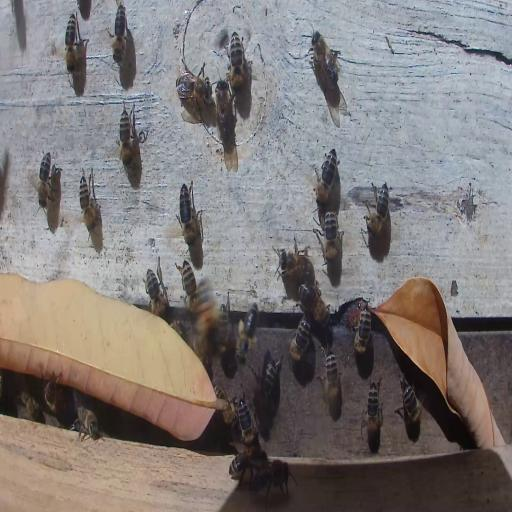bee: (176, 178, 204, 246), (296, 281, 332, 332), (310, 28, 341, 87), (256, 458, 297, 498), (316, 209, 343, 269), (313, 147, 339, 206), (364, 180, 390, 236), (398, 376, 424, 432), (78, 166, 100, 232), (234, 305, 258, 363), (256, 355, 282, 408), (145, 258, 168, 316), (276, 244, 313, 280), (214, 78, 233, 146), (322, 349, 340, 418), (118, 105, 137, 167), (177, 72, 211, 106), (364, 376, 382, 440), (230, 449, 262, 484), (352, 300, 372, 354), (178, 258, 198, 311), (288, 316, 311, 362), (110, 2, 127, 64), (229, 29, 244, 94), (237, 399, 256, 449), (65, 11, 78, 76), (38, 150, 52, 209), (73, 409, 99, 440), (17, 393, 45, 420), (44, 379, 58, 417)
